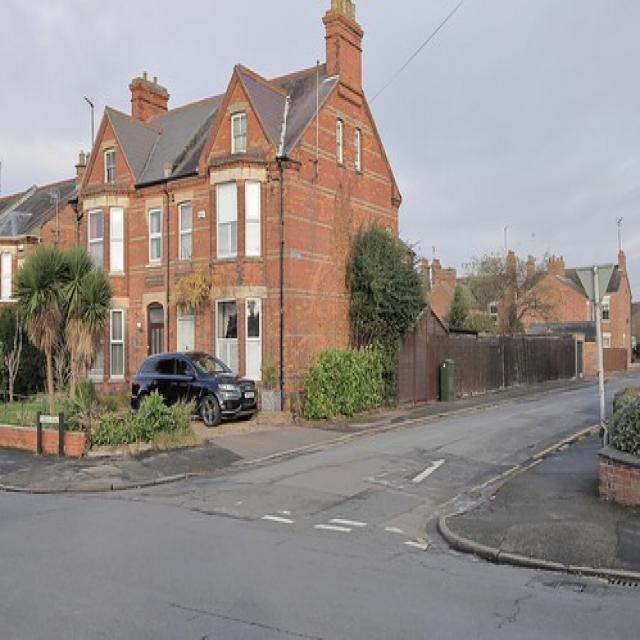Normal_building: (74, 8, 403, 426)
